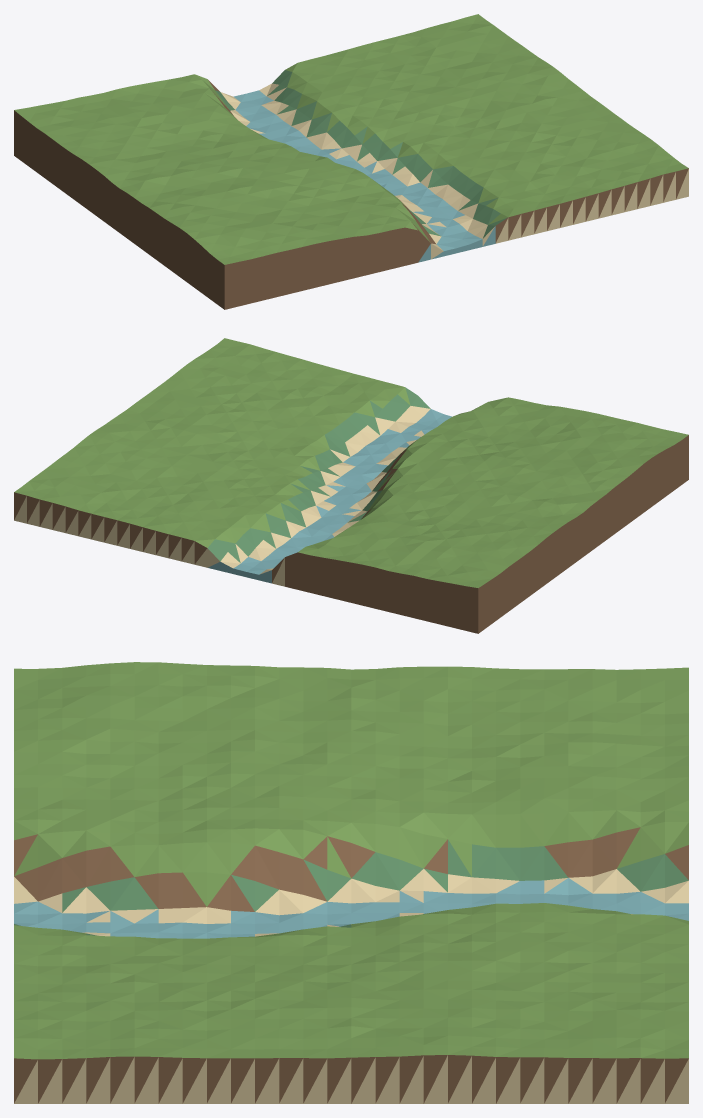
File: TERRAIN_13.obj
3 renders of one model, top to bottom at view 1: azimuth 30°, elevation 25°; view 2: azimuth 150°, elevation 25°; view 3: azimuth 270°, elevation 25°, orthographic. The views are drawn at different scales.
Parts seen in each view (by area): view 1: TERRAIN_13; view 2: TERRAIN_13; view 3: TERRAIN_13.
Part boxes in pixels (x1,y1,x2,y2): TERRAIN_13: [14, 14, 688, 309]; TERRAIN_13: [14, 338, 688, 633]; TERRAIN_13: [14, 662, 688, 1103].
Size of the model in its own units: 56 by 5.66 by 44.
